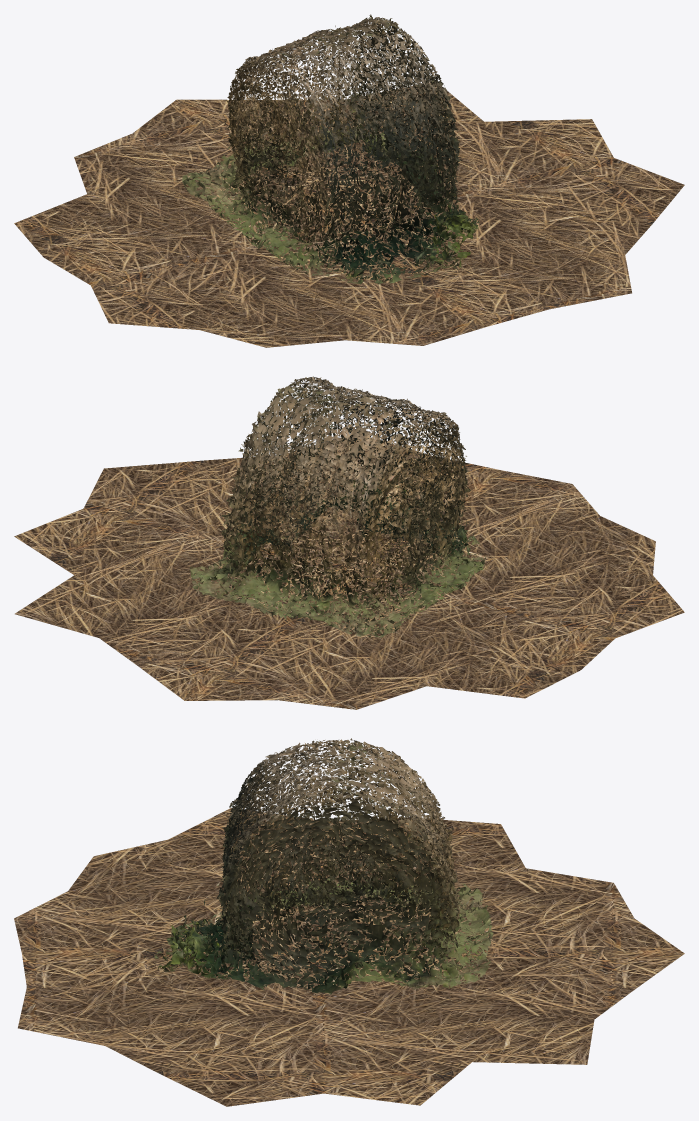
File: haystack_vn.glb
3 renders of one model, top to bottom at view 1: azimuth 30°, elevation 25°; view 2: azimuth 150°, elevation 25°; view 3: azimuth 270°, elevation 25°, orthographic. The views are drawn at different scales.
Visible parts, largest first — view 1: haystack_vn; view 2: haystack_vn; view 3: haystack_vn.
Part boxes in pixels (x1,y1,x2,y2): haystack_vn: (14,14,684,347); haystack_vn: (14,376,684,709); haystack_vn: (14,738,684,1106).
Size of the model in its own units: 4.88 by 1.49 by 4.62.
2 materials, 2 textured.
